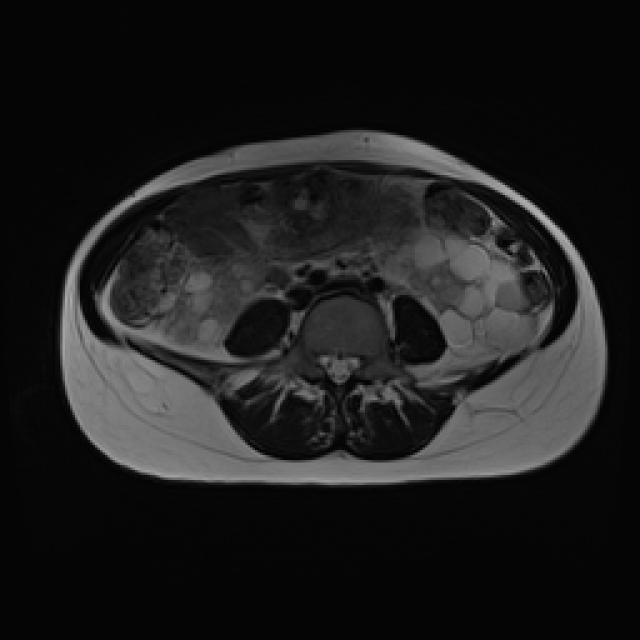sag: (152, 260, 263, 352)
sol: (387, 227, 540, 361)
